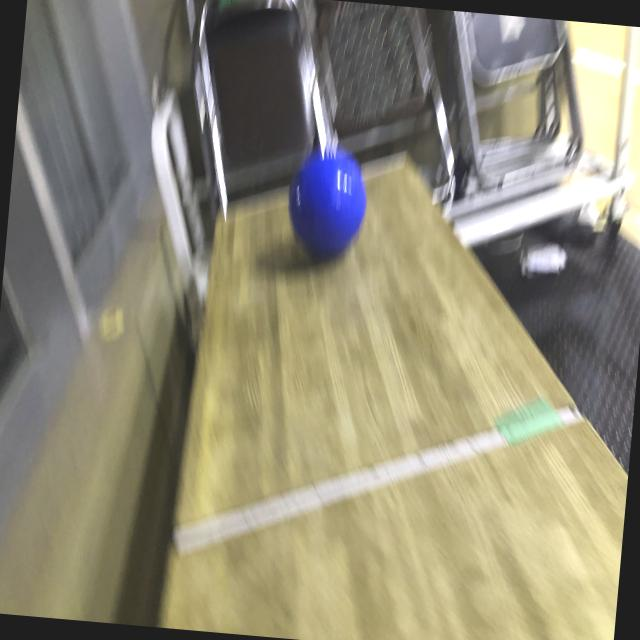blue_ball: (288, 148, 369, 252)
